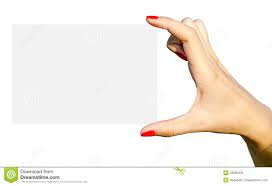hand: (134, 9, 258, 148)
